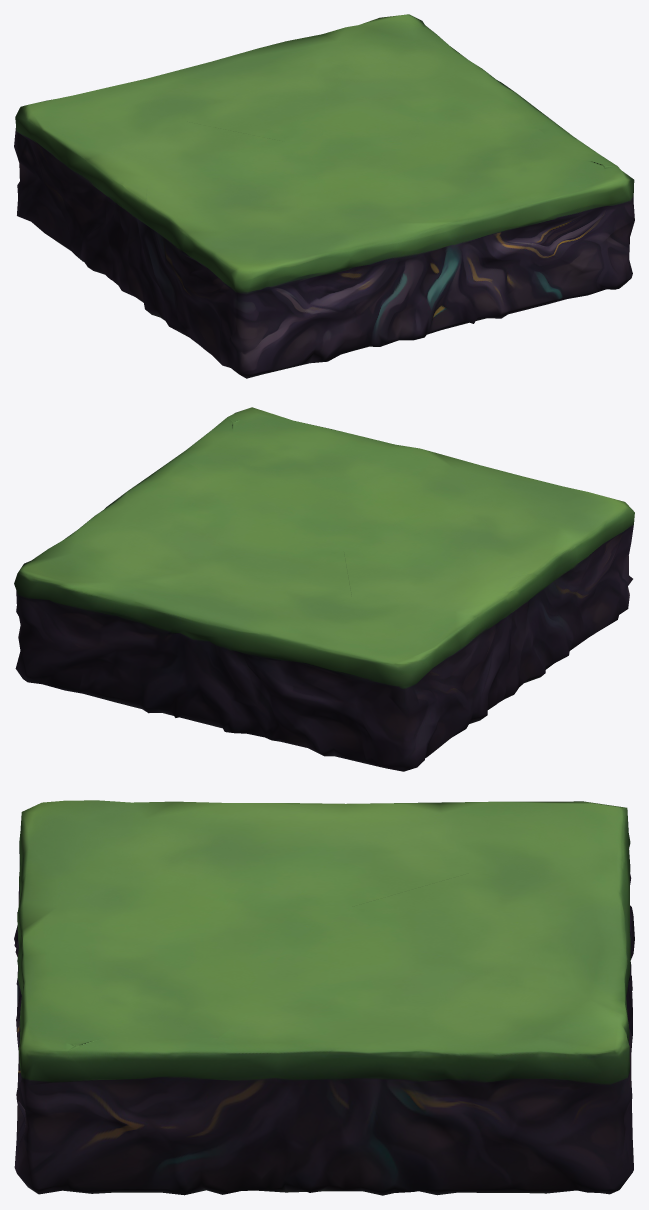
Rendered from env_root_floor_4m_a.glb.
The picture shows the model from 3 angles, top to bottom: view 1: azimuth 30°, elevation 25°; view 2: azimuth 150°, elevation 25°; view 3: azimuth 270°, elevation 25°; orthographic projection. The views are drawn at different scales.
Parts seen in each view (by area): view 1: tripo_node_7d138e1c-9bc3-474d-a02a-0c0d6912723c; view 2: tripo_node_7d138e1c-9bc3-474d-a02a-0c0d6912723c; view 3: tripo_node_7d138e1c-9bc3-474d-a02a-0c0d6912723c.
Boxes of the visible parts, box(x1,y1,x2,y2) form: tripo_node_7d138e1c-9bc3-474d-a02a-0c0d6912723c: box(14, 14, 634, 378); tripo_node_7d138e1c-9bc3-474d-a02a-0c0d6912723c: box(14, 407, 634, 771); tripo_node_7d138e1c-9bc3-474d-a02a-0c0d6912723c: box(14, 800, 634, 1195).
Size of the model in its own units: 0.9948 by 0.2619 by 1.
1 material, 1 textured.
